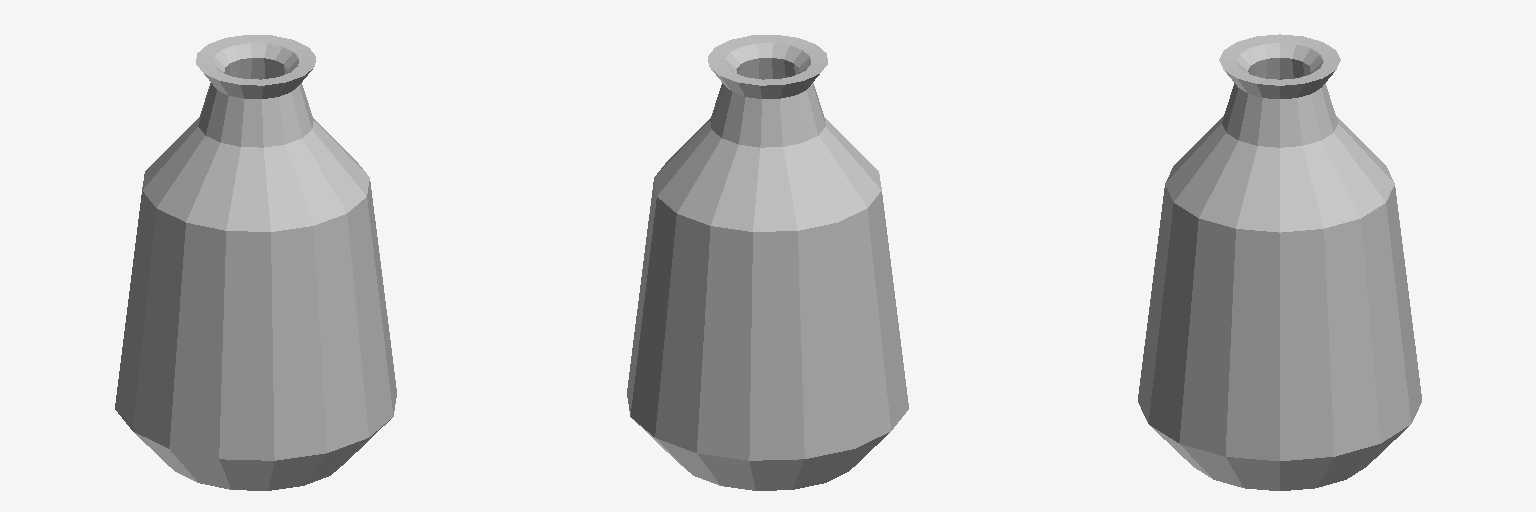
File: Artifact4.obj
The picture shows the model from 3 angles: view 1: azimuth 30°, elevation 25°; view 2: azimuth 150°, elevation 25°; view 3: azimuth 270°, elevation 25°; orthographic projection.
Parts seen in each view (by area): view 1: Artifact.003_Cylinder.004; view 2: Artifact.003_Cylinder.004; view 3: Artifact.003_Cylinder.004.
Part boxes in pixels (left/top/right/bottom): Artifact.003_Cylinder.004: left=115, top=35, right=396, bottom=490; Artifact.003_Cylinder.004: left=627, top=35, right=908, bottom=490; Artifact.003_Cylinder.004: left=1138, top=34, right=1421, bottom=490.
Bounding box in the file's own units: 1.01 × 1.53 × 1.01.